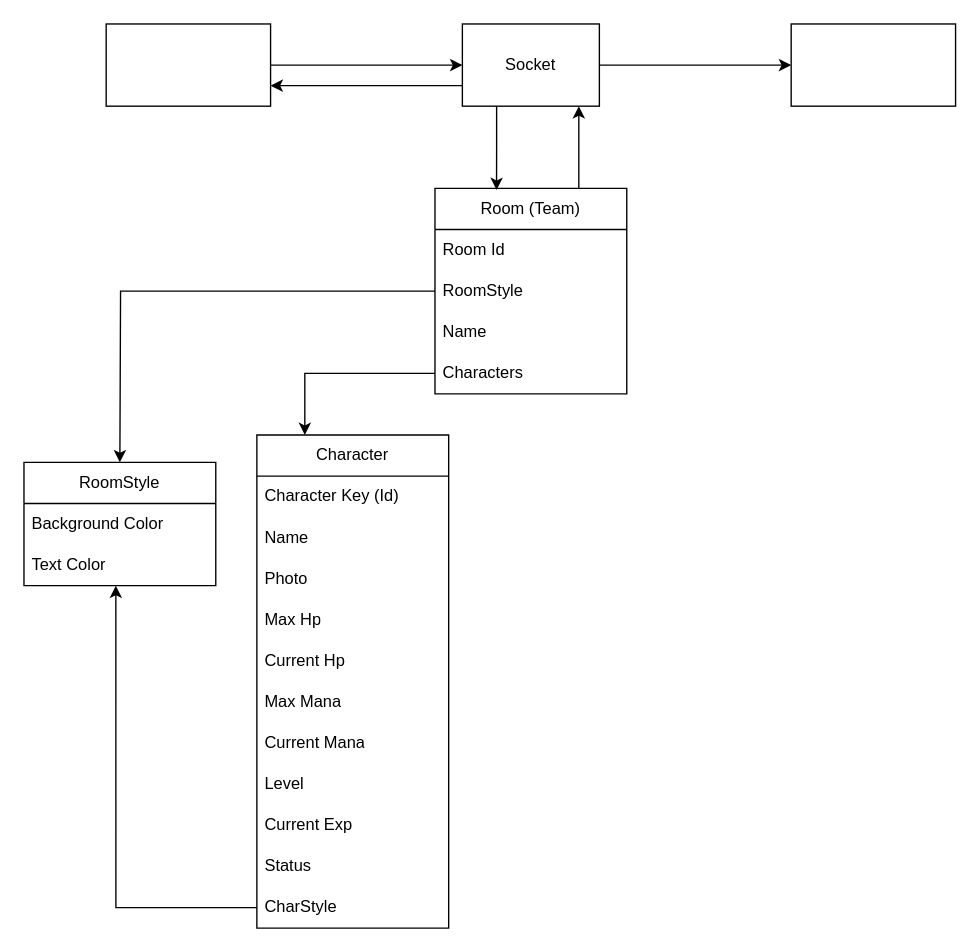
This 980x952 diagram has some shape labels left out. Here are the shapes that lost their labels. From the top down, the centre of each, then its label:
At [188,64]: "Host (DM)".
At [873,64]: "Viewer".
